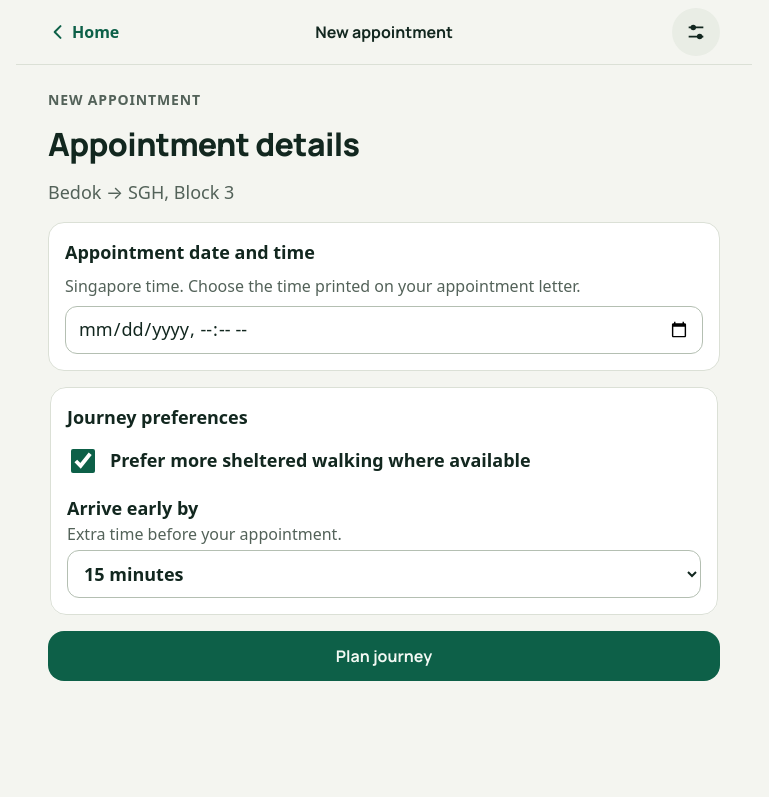
Test: appointment form › explains that the request is preparing a journey while submission is pending
Type "2026-10-20T09:00" into the field labelled "Appointment date and time" at (384, 330), box x1=65 y1=306 x2=703 y2=354
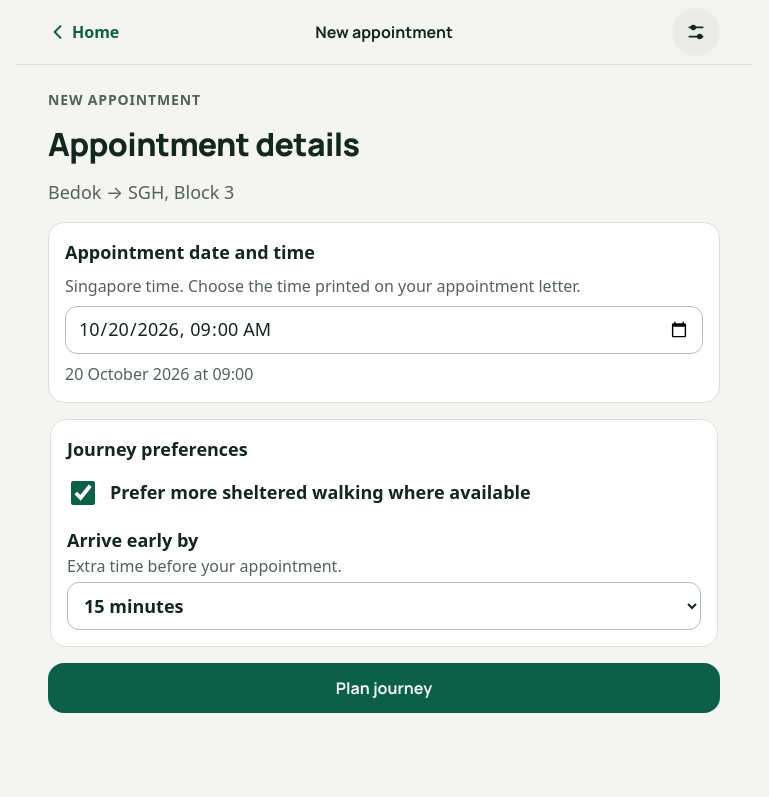
Click the button "Plan journey" at (384, 688), box x1=48 y1=663 x2=720 y2=713
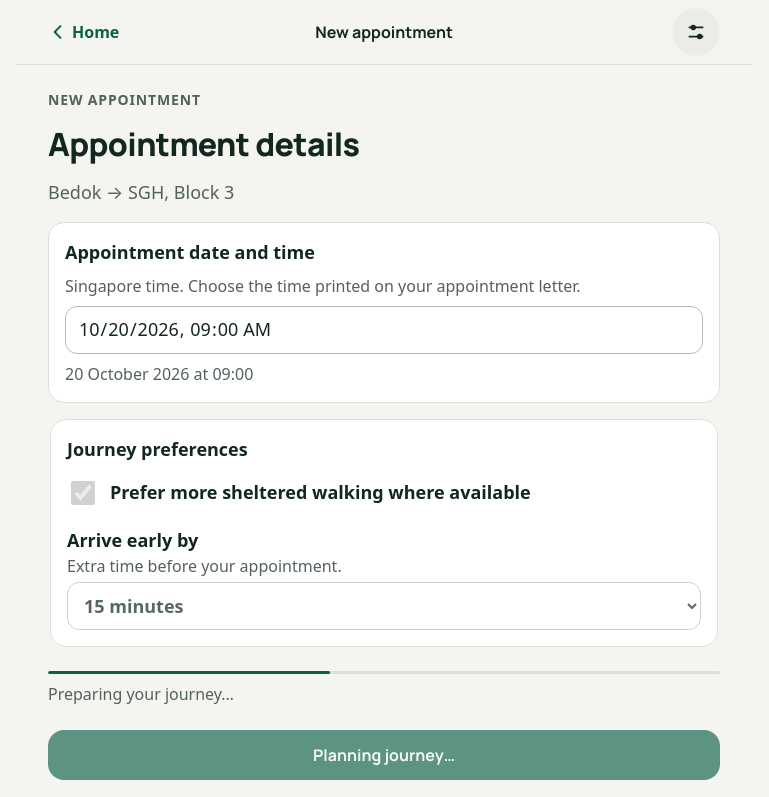
Expected: the text "Preparing your journey…" is shown, x1=48 y1=683 x2=234 y2=705
Expected: the button "Planning journey…" is disabled, x1=48 y1=730 x2=720 y2=780
